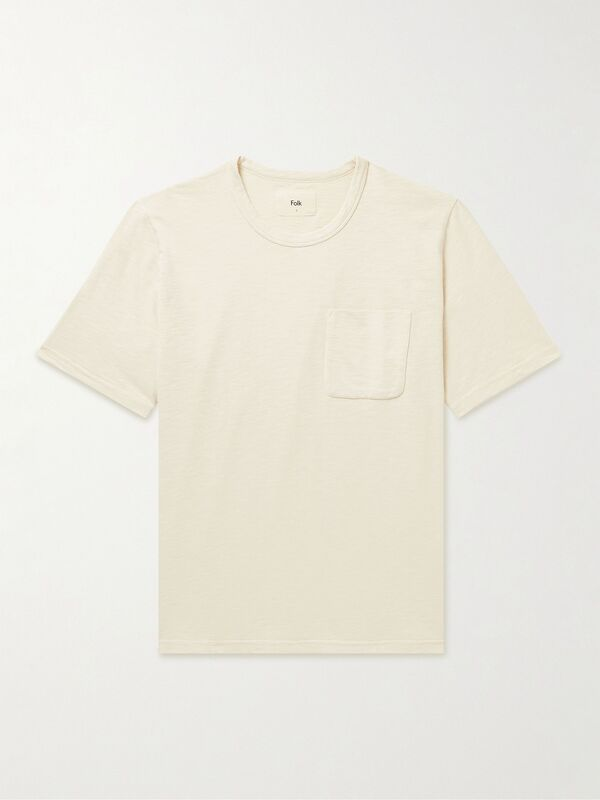tshirt: (33, 150, 564, 669)
